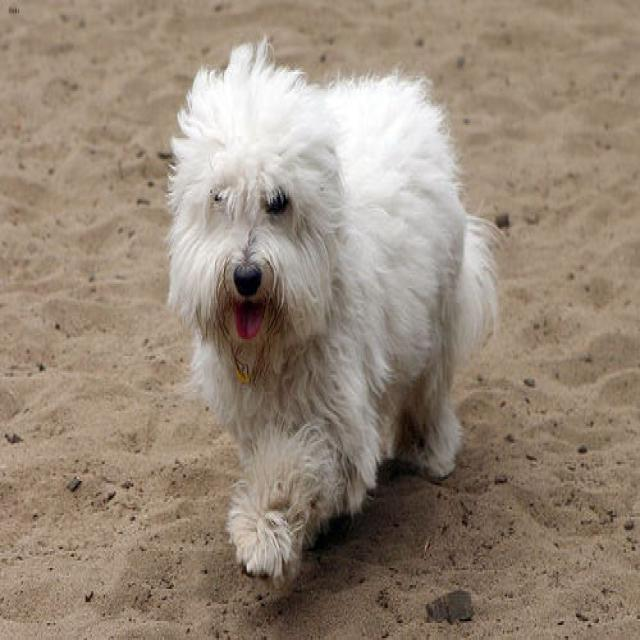dog-havanese: (151, 28, 507, 613)
